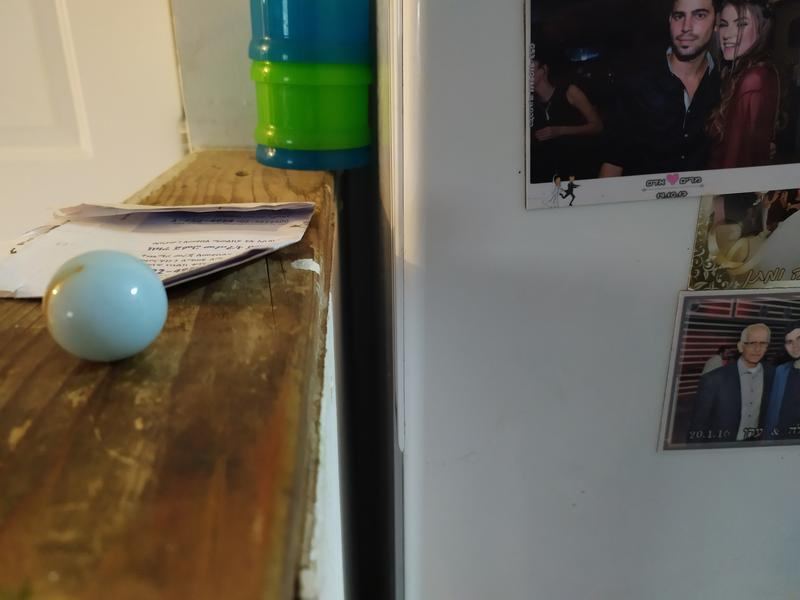Warning: (39, 246, 171, 365)
